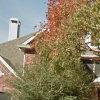Chimney: (6, 8, 22, 45)
